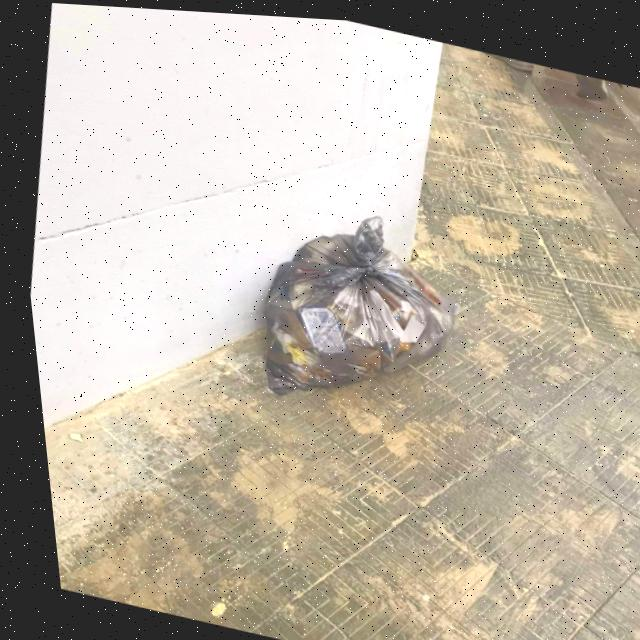Mixed Waste -Black Bag-: (231, 190, 473, 430)
